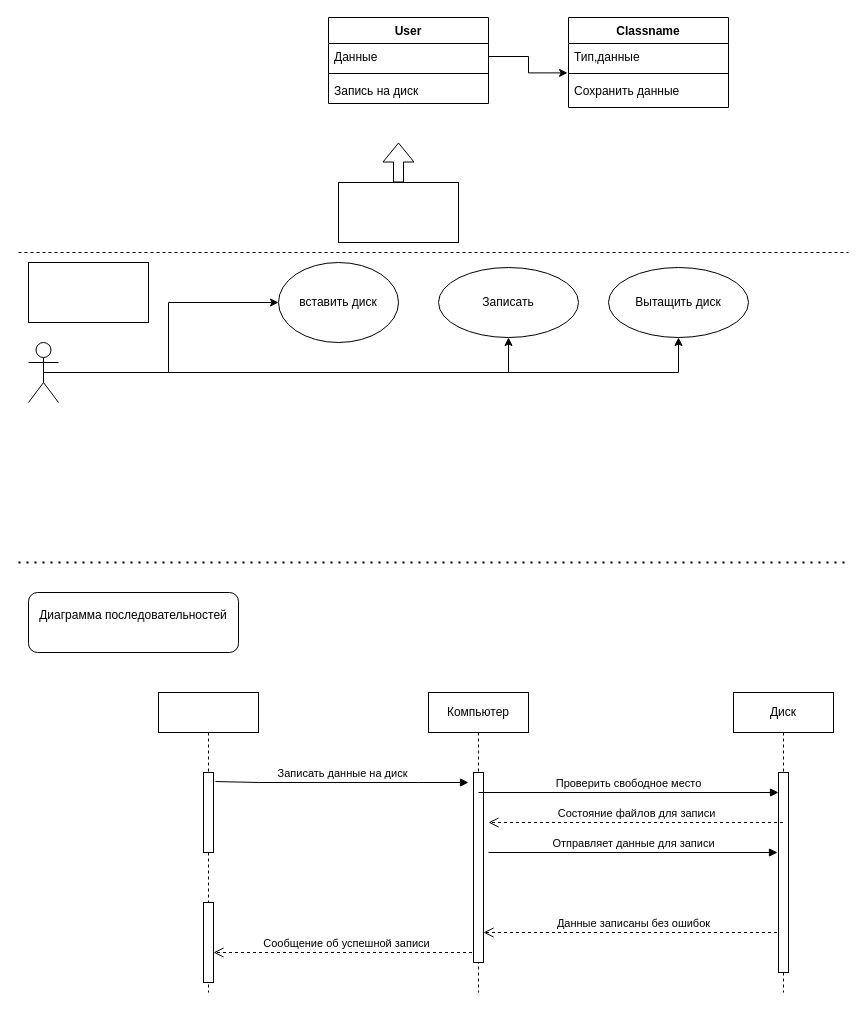
Image size: 867x1010. Some labels were removed from this diagram. The centre of each missing label's shape, as x and y in pixels:
"Actor" goes at point 43,372.
"диаграмма прецедентов (UseCase)" goes at point 88,292.
"Пользователь" goes at point 208,842.
"Это диаграмма Class" goes at point 398,212.
